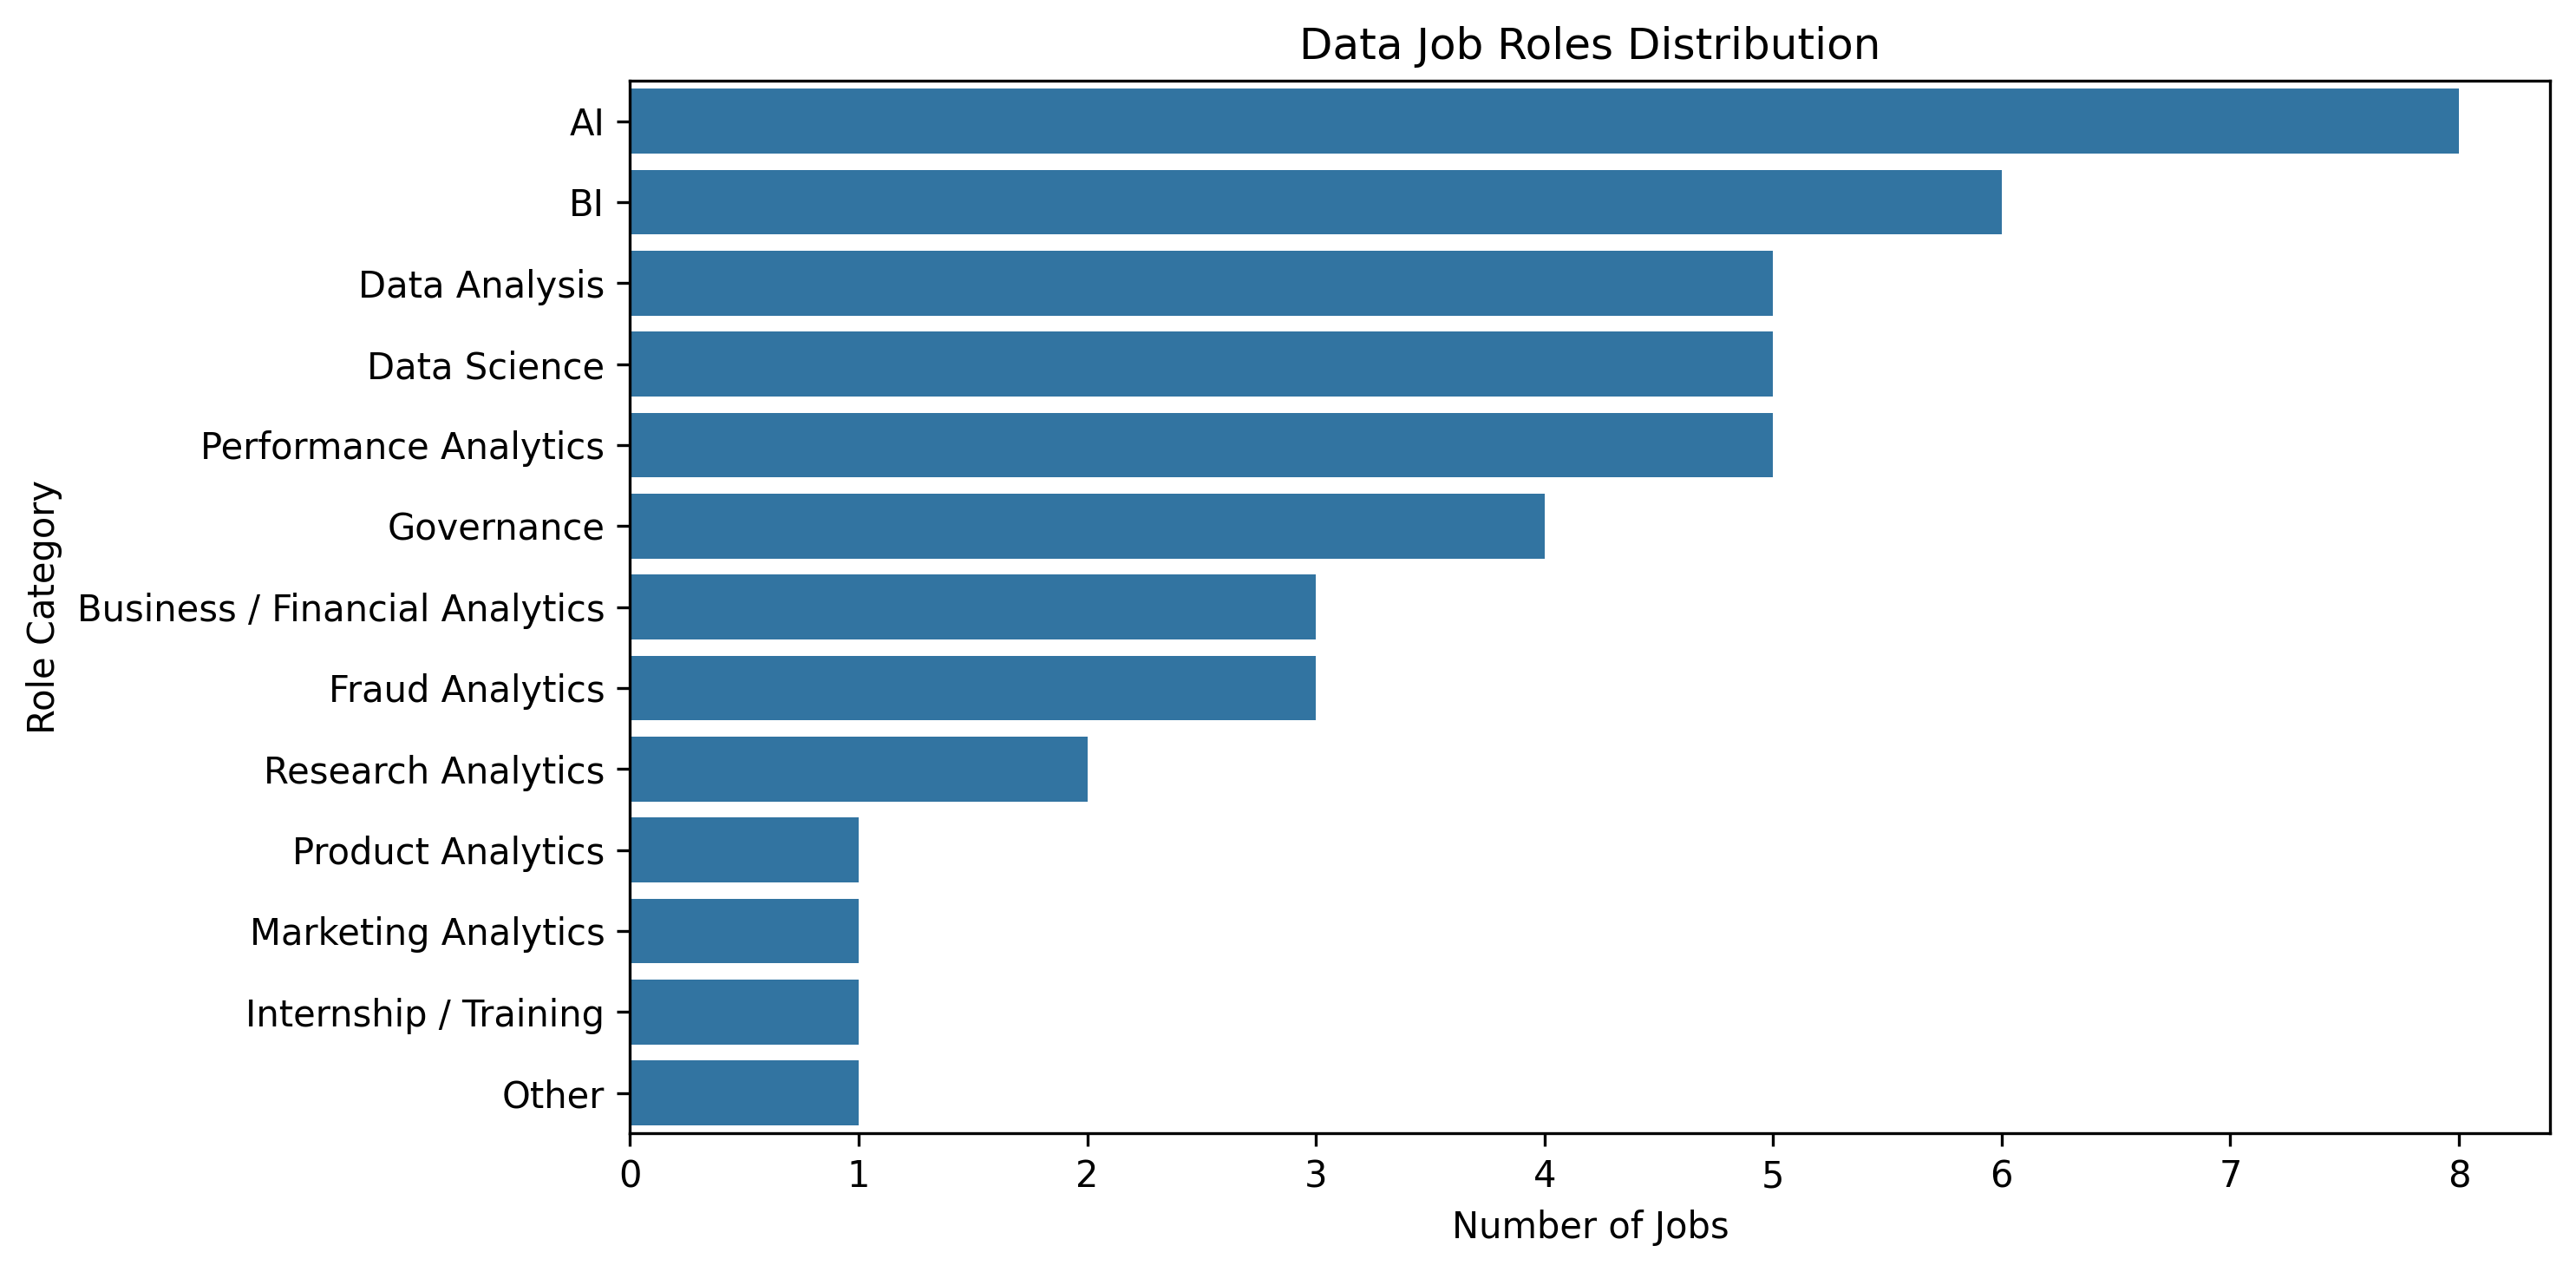

Layout of this report page (visuals, bound fields, positions):
{"tool":"powerbi","page":{"name":"الصفحة 4","canvas":[1280,720],"ordinal":3},"visuals":[{"type":"clusteredColumnChart","fields":{"Category":["saudi_data_jobs_powerbi.role_category"],"Y":["CountNonNull(saudi_data_jobs_powerbi.job_id)"]},"box":[9.4,0,1270.6,722.1],"z":0}]}

Visuals, with their boxes on the page's 1280x720 design canvas (x1, y1, x2, y2). These are canvas units, not pixel positions in the 2576x1272 screenshot, which may show the page scaled, cropped or inside an application window:
clusteredColumnChart - saudi_data_jobs_powerbi.role_category x CountNonNull(saudi_data_jobs_powerbi.job_id): box(9, 0, 1280, 722)
